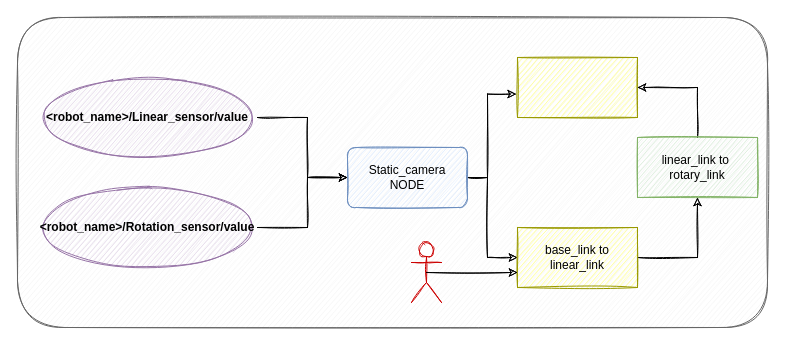
Some shapes in this 785 by 345 pixel diagram are drawn without their labels. The shapes that lost their labels are listed below. From the top down, each one's centre as x and y in pixels, then its label:
the point at 577,87: rotary_link to camera_link
the point at 426,272: Robot (base_link)
